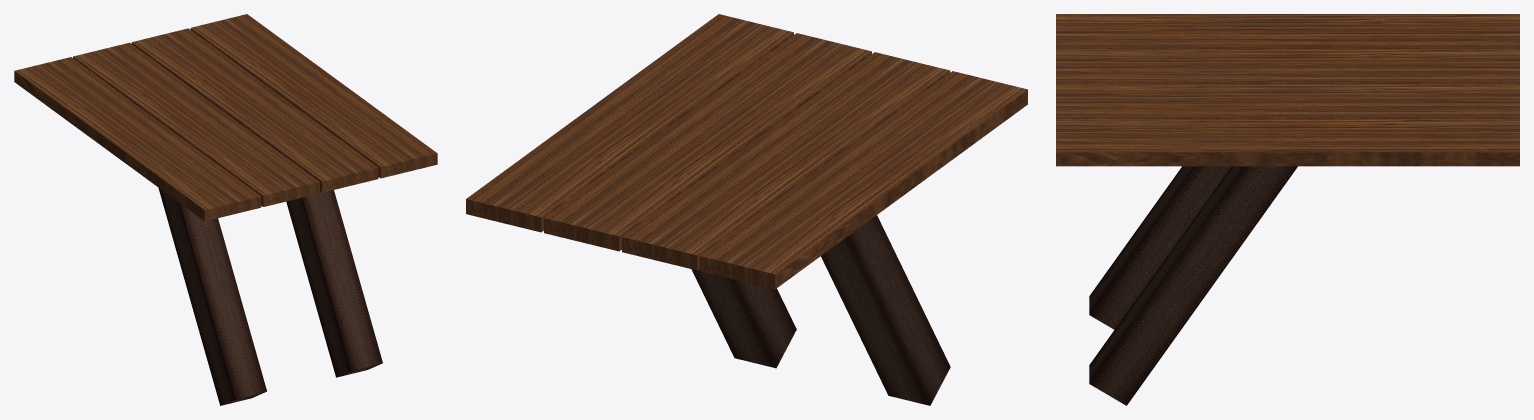
File: Drop Point.FBX
3 views of the same model, side by side, from view 1: azimuth 30°, elevation 25°; view 2: azimuth 150°, elevation 25°; view 3: azimuth 270°, elevation 25° (orthographic). The views are drawn at different scales.
Visible parts, largest first — view 1: Box001, Box003, Box002; view 2: Box001, Box003, Box002; view 3: Box001, Box002, Box003.
Part boxes in pixels (bbox=[...]): Box001: bbox=[14, 14, 437, 221]; Box003: bbox=[158, 187, 266, 405]; Box002: bbox=[286, 190, 382, 377]; Box001: bbox=[466, 14, 1027, 289]; Box003: bbox=[821, 215, 950, 405]; Box002: bbox=[691, 269, 796, 368]; Box001: bbox=[1056, 14, 1519, 166]; Box002: bbox=[1089, 166, 1297, 405]; Box003: bbox=[1089, 166, 1231, 329].
Size of the model in its own units: 2.78 by 2.6 by 3.93.
Materials: 3 (3 with a texture image).
